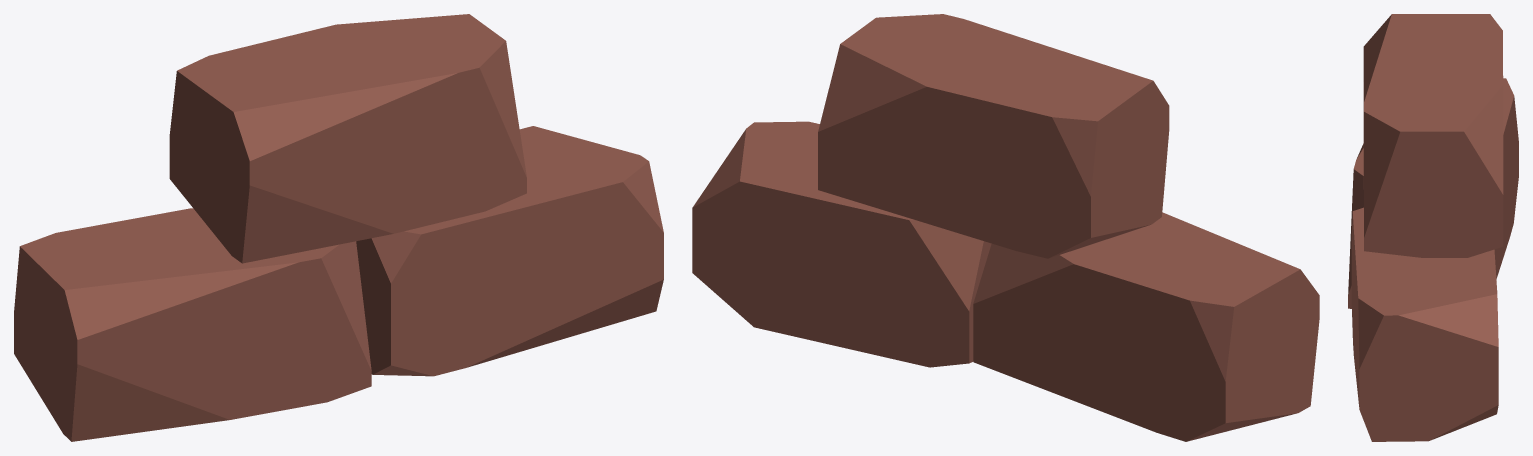
Rendered from Brick_B_06.FBX.
3 views of the same model, side by side, from view 1: azimuth 30°, elevation 25°; view 2: azimuth 150°, elevation 25°; view 3: azimuth 270°, elevation 25° (orthographic). The views are drawn at different scales.
Visible parts, largest first — view 1: Brick_B_06; view 2: Brick_B_06; view 3: Brick_B_06.
Part boxes in pixels (x1=…): Brick_B_06: x1=14, y1=14, x2=663, y2=441; Brick_B_06: x1=692, y1=14, x2=1319, y2=441; Brick_B_06: x1=1348, y1=14, x2=1518, y2=441.
Size of the model in its own units: 2.35 by 1.14 by 0.6953.
